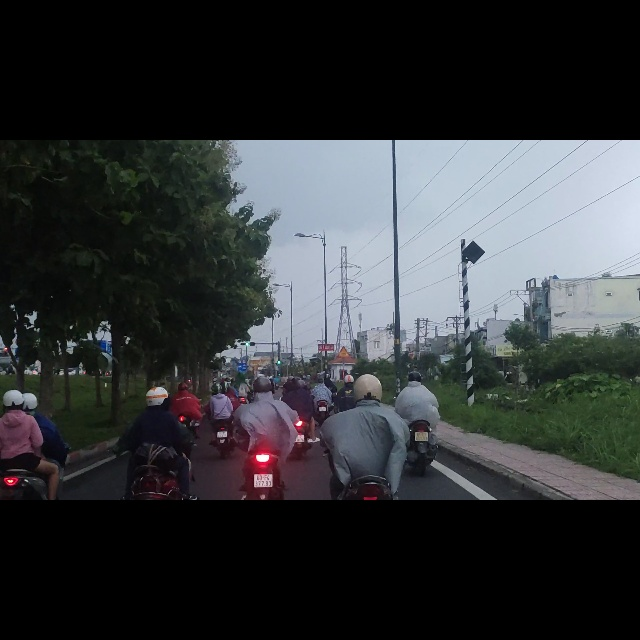bien_cam: (337, 366, 351, 386)
